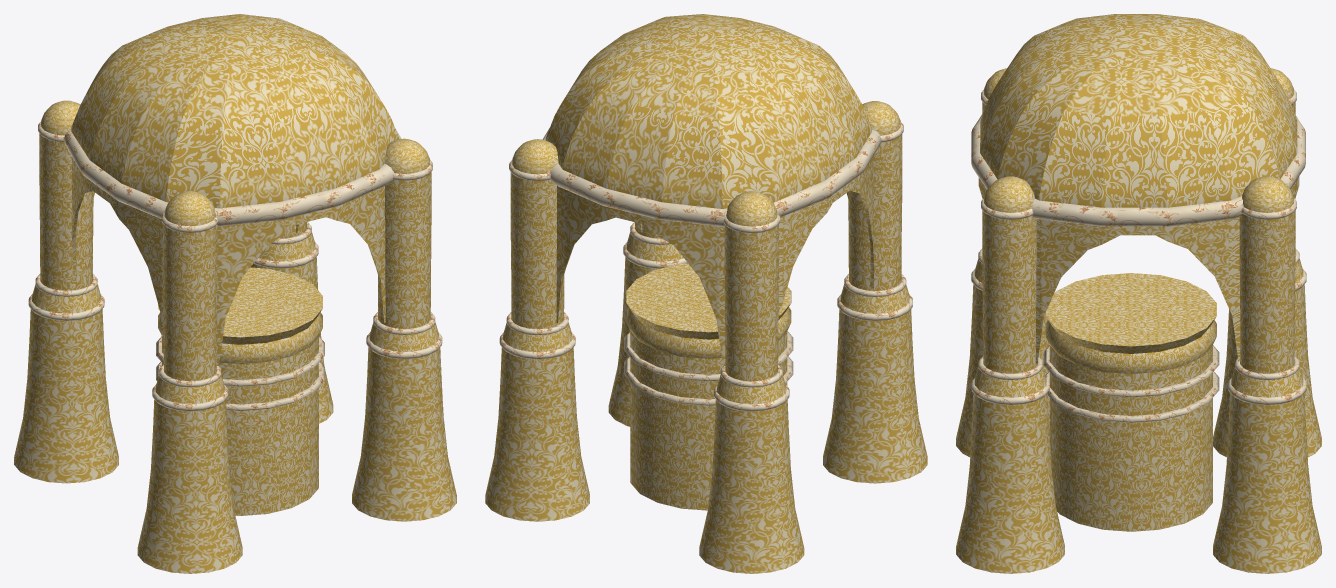
Rendered from EntradaViento.FBX.
The picture shows the model from 3 angles, left to right: view 1: azimuth 30°, elevation 25°; view 2: azimuth 150°, elevation 25°; view 3: azimuth 270°, elevation 25°; orthographic projection. The views are drawn at different scales.
Parts seen in each view (by area): view 1: Object002; view 2: Object002; view 3: Object002.
Boxes of the visible parts, <box> form: Object002: <box>14,14,456,573</box>; Object002: <box>485,14,927,573</box>; Object002: <box>956,14,1321,573</box>.
Size of the model in its own units: 137 by 190 by 136.
Materials: 25 (25 with a texture image).
